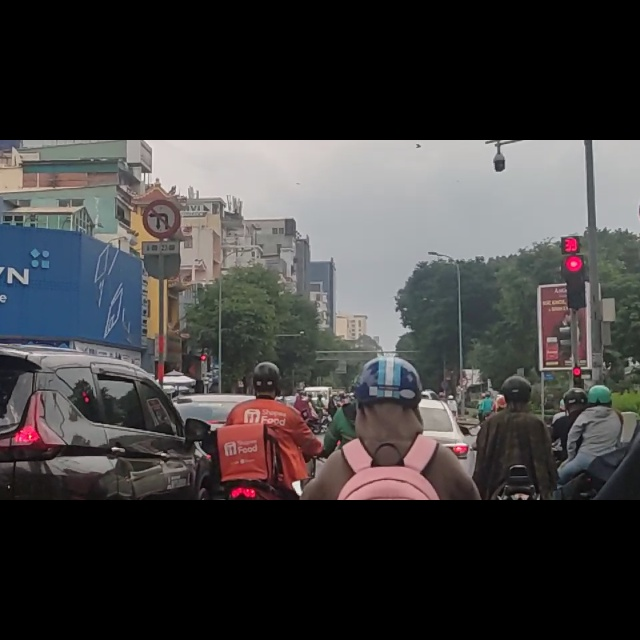bien_cam: (141, 104, 181, 178)
